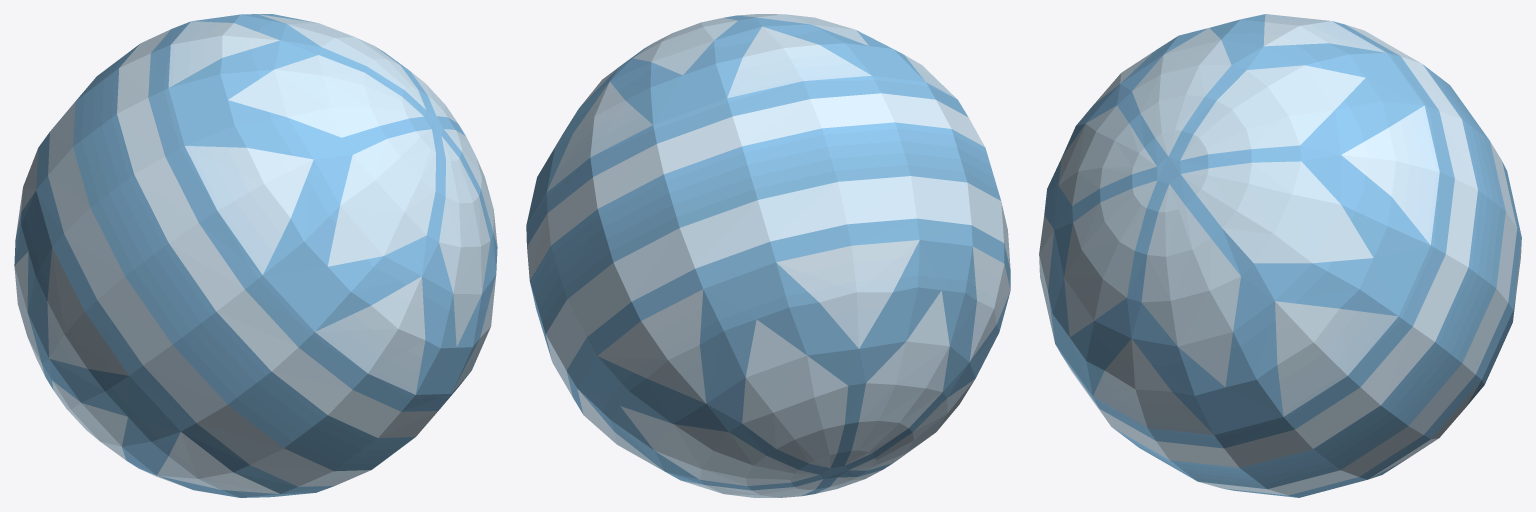
Rendered from CharSkyKid_Prop_SkyBallGoals.glb.
3 renders of one model, left to right at view 1: azimuth 30°, elevation 25°; view 2: azimuth 150°, elevation 25°; view 3: azimuth 270°, elevation 25°, orthographic.
Visible parts, largest first — view 1: CharSkyKid_Prop_SkyBallGoals; view 2: CharSkyKid_Prop_SkyBallGoals; view 3: CharSkyKid_Prop_SkyBallGoals.
Part boxes in pixels (x1,y1,x2,y2): CharSkyKid_Prop_SkyBallGoals: [14, 14, 497, 497]; CharSkyKid_Prop_SkyBallGoals: [526, 14, 1010, 497]; CharSkyKid_Prop_SkyBallGoals: [1039, 14, 1521, 497].
Bounding box in the file's own units: 3.11 × 3.11 × 3.13.
1 material, 1 textured.
